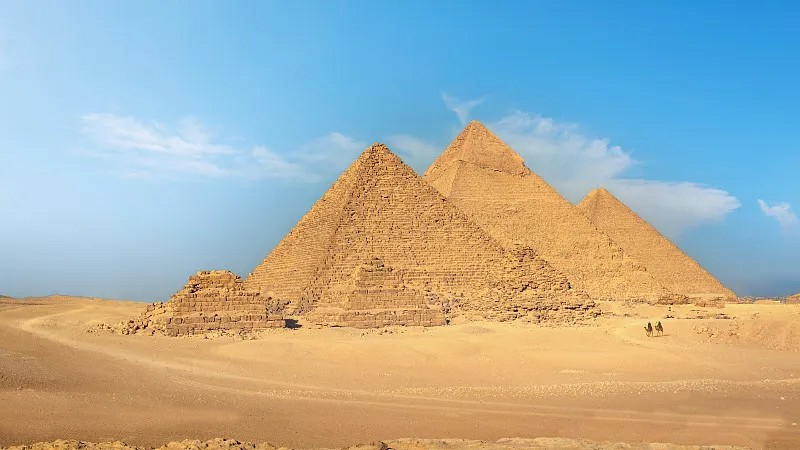Pyramid: (423, 120, 686, 305), (243, 143, 506, 314), (575, 189, 739, 302), (467, 244, 601, 322), (307, 257, 449, 325), (153, 267, 284, 337)
